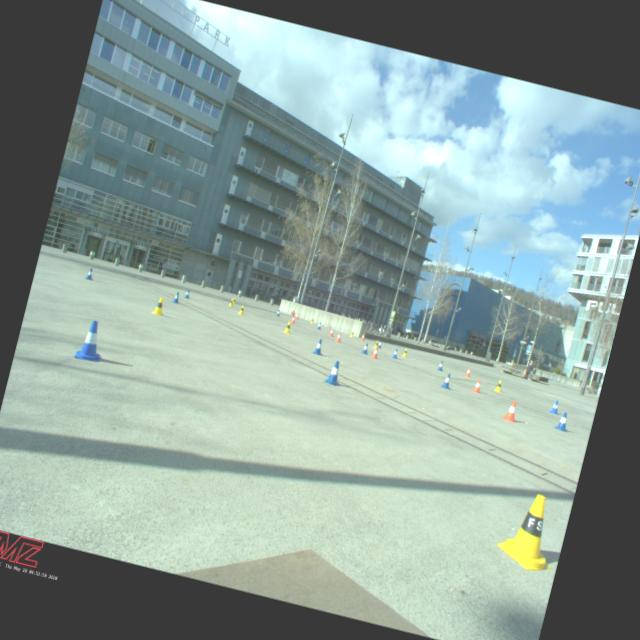blue_cone: (74, 317, 110, 364), (322, 358, 346, 388), (552, 410, 572, 432), (310, 338, 326, 356), (439, 372, 454, 389), (548, 398, 561, 414), (84, 266, 96, 280), (172, 290, 182, 304), (360, 342, 370, 354), (436, 360, 445, 371), (184, 288, 192, 298), (391, 348, 399, 358), (376, 339, 383, 348), (316, 322, 322, 329), (276, 309, 280, 316)
orange_cone: (502, 399, 522, 423), (472, 378, 484, 393), (370, 346, 380, 358), (464, 367, 472, 378), (334, 332, 342, 342), (328, 327, 335, 337), (294, 312, 300, 320), (290, 316, 296, 324), (360, 333, 366, 341)
yellow_cone: (492, 487, 568, 576), (150, 295, 168, 316), (493, 378, 503, 392), (283, 321, 293, 334), (401, 347, 409, 357), (238, 304, 245, 315), (373, 340, 380, 350), (228, 298, 235, 306), (230, 296, 237, 304), (349, 329, 355, 337), (310, 317, 314, 324)
